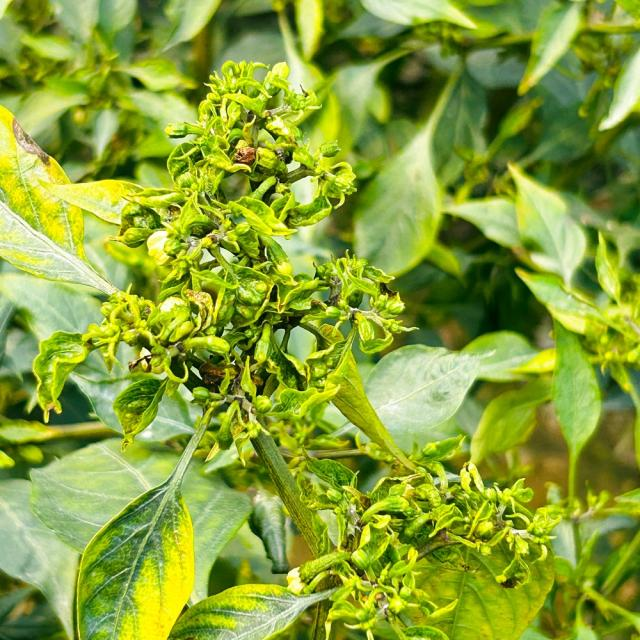Chilli_Leaf_Curl: (2, 56, 561, 638), (30, 57, 421, 467), (291, 456, 561, 638), (70, 398, 224, 639), (0, 103, 144, 298), (359, 342, 486, 441)
